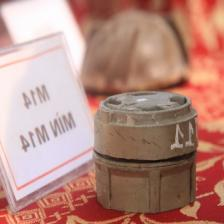M14: (92, 90, 196, 214)
